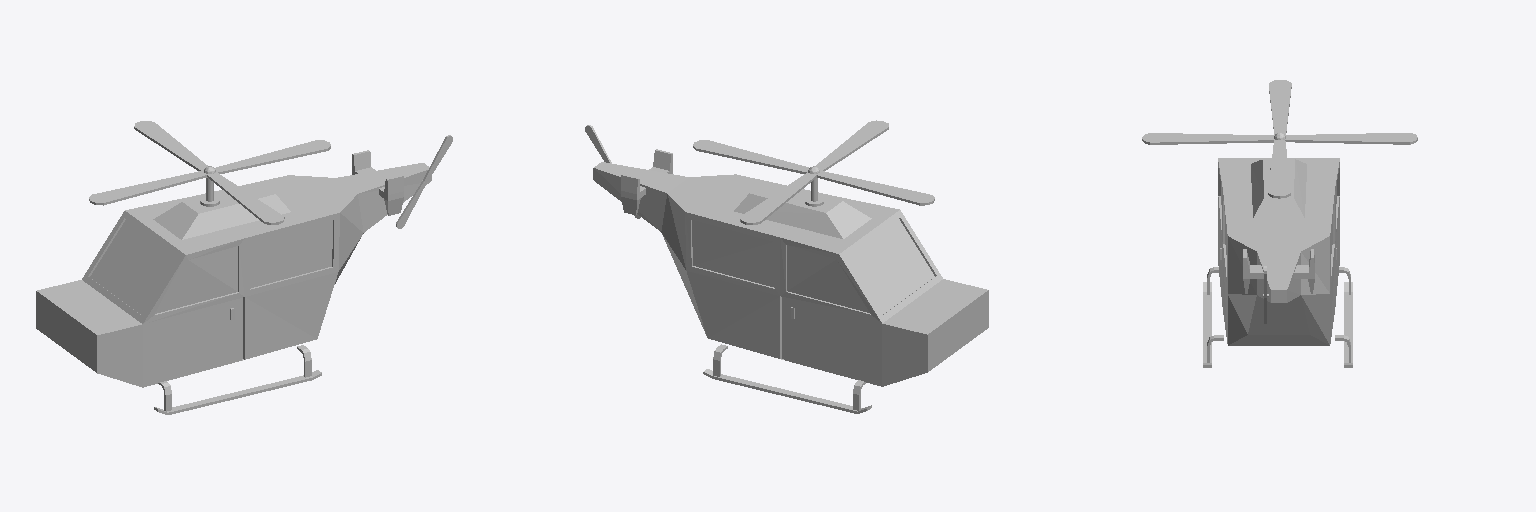
File: Helicopter.obj
3 views of the same model, side by side, from view 1: azimuth 30°, elevation 25°; view 2: azimuth 150°, elevation 25°; view 3: azimuth 270°, elevation 25° (orthographic).
Visible parts, largest first — view 1: Box001; view 2: Box001; view 3: Box001.
Boxes of the visible parts, x1,y1,x2,y2 form: Box001: [36, 121, 452, 414]; Box001: [585, 120, 988, 413]; Box001: [1142, 80, 1417, 367].
Bounding box in the file's own units: 67.56 × 34.26 × 42.63.